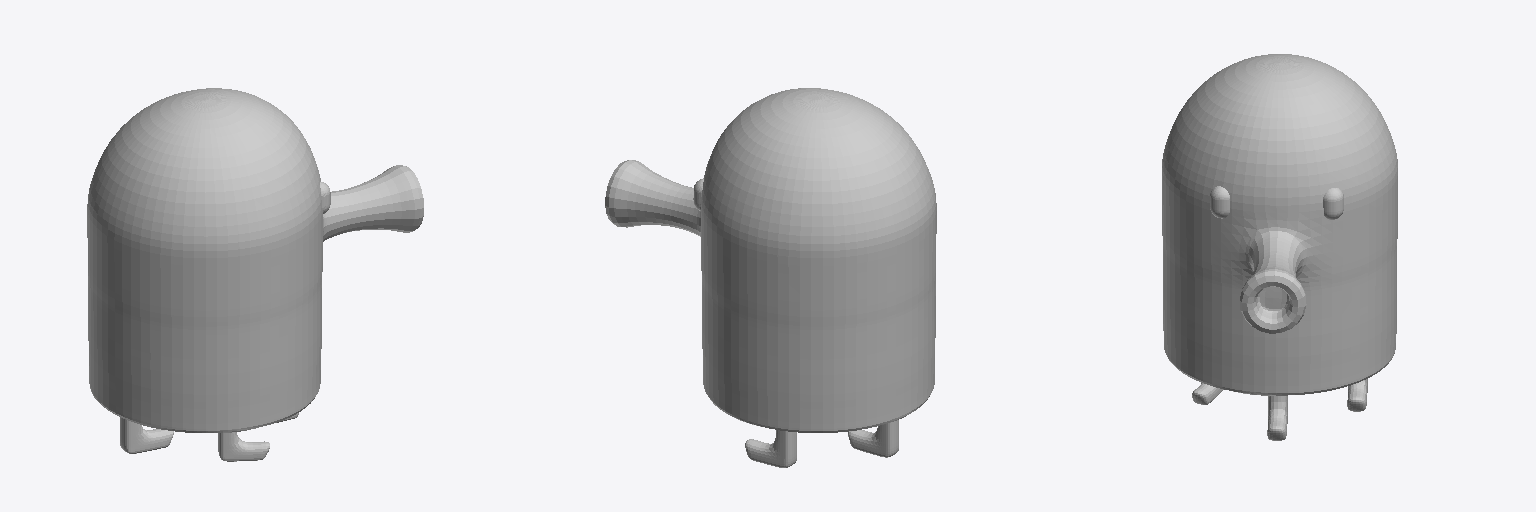
File: DoodleJump.obj
3 renders of one model, left to right at view 1: azimuth 30°, elevation 25°; view 2: azimuth 150°, elevation 25°; view 3: azimuth 270°, elevation 25°, orthographic.
Visible parts, largest first — view 1: Sphere, Cube.001_Cube.006, Cube.002_Cube.007; view 2: Sphere, Cube.003_Cube.008, Cube.001_Cube.006; view 3: Sphere, Sphere.001_Sphere.002, Cube_Cube.005, Cube.003_Cube.008.
Part boxes in pixels (x1,y1,x2,y2): Sphere: (87,88,423,432); Cube.001_Cube.006: (120,417,173,453); Cube.002_Cube.007: (218,432,269,461); Sphere: (605,88,936,432); Cube.003_Cube.008: (745,430,796,467); Cube.001_Cube.006: (848,420,898,457); Sphere: (1162,54,1397,395); Sphere.001_Sphere.002: (1210,186,1343,219); Cube_Cube.005: (1267,396,1287,440); Cube.003_Cube.008: (1347,379,1367,411).
Size of the model in its own units: 2.9 by 3.06 by 1.95.